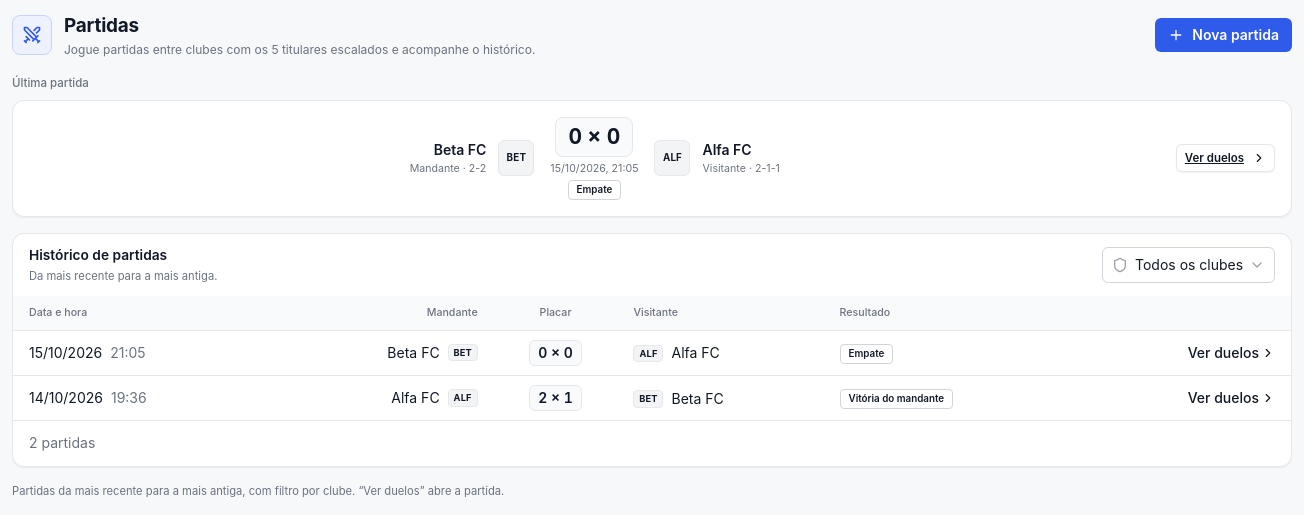
Scenario: MatchesPage history › filters the history by club through the API
Expected: the text "0 × 0" below "Placar" is shown, [538,344,573,361]
Step 1. Select "Beta FC (BET)" in the dropdown named "Filtrar por clube" → (1188, 265), box [1102,247,1275,283]
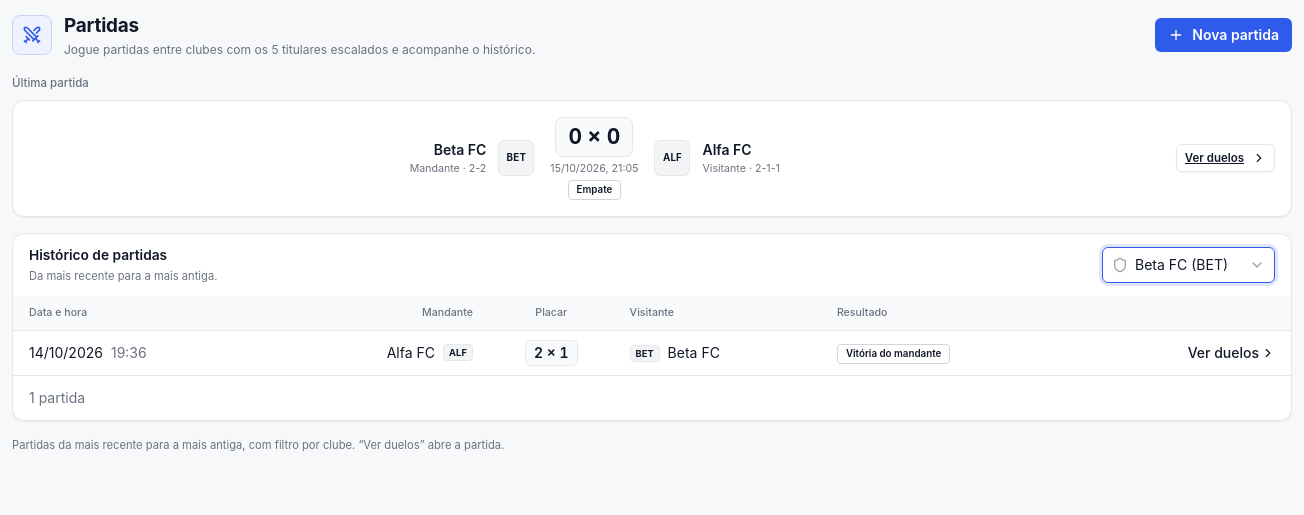
Expected: the text "2 × 1" is shown, [525,340,578,366]
Now the text "1 partida" is shown, box [29,389,85,406]
